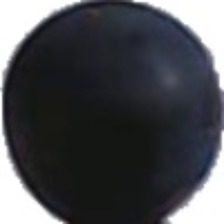grapes: (21, 17, 172, 190)
